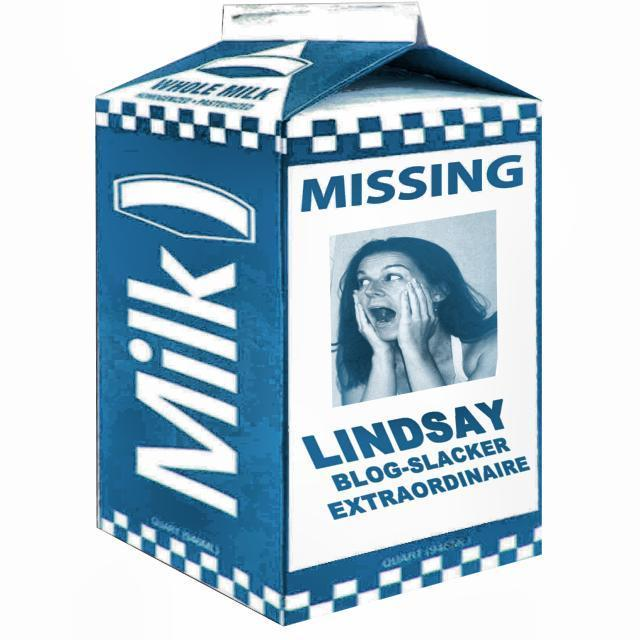cardboard: (94, 2, 545, 626)
